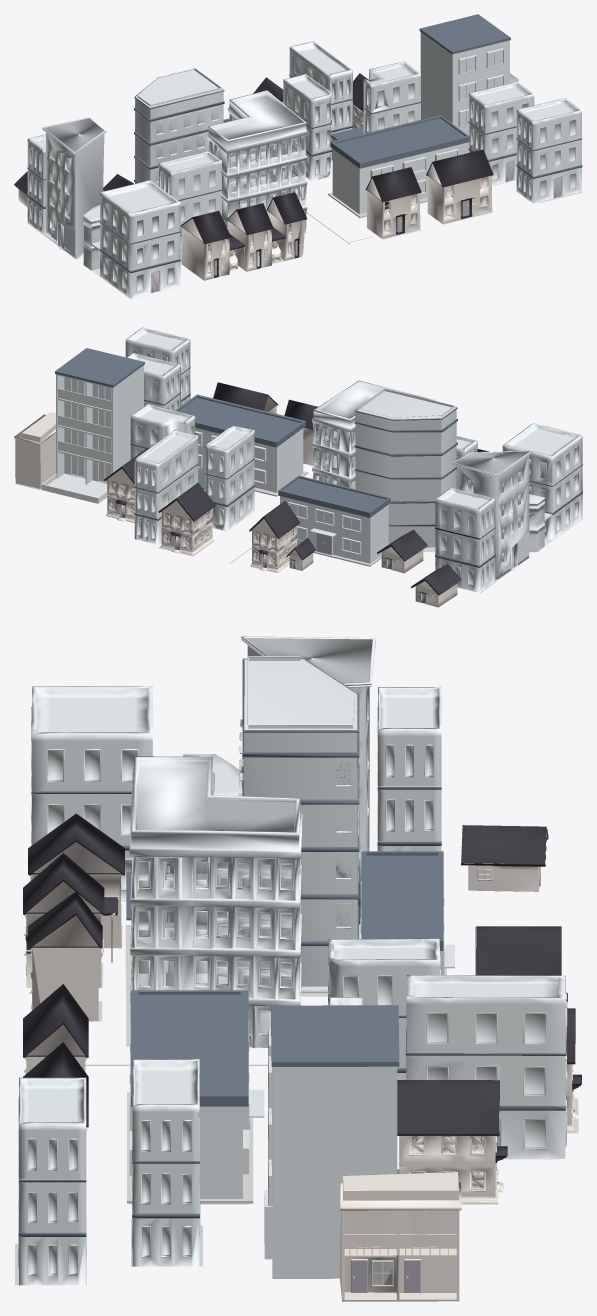
Rendered from 3Dfieldglb.glb.
3 renders of one model, top to bottom at view 1: azimuth 30°, elevation 25°; view 2: azimuth 150°, elevation 25°; view 3: azimuth 270°, elevation 25°, orthographic. The views are drawn at different scales.
Parts seen in each view (by area): view 1: tripo_node_ea9571d6-1a64-4c9e-be9a-d9562c90b405, tripo_node_7c702e56-00d2-4c10-ba90-7abff40f0599.003, Cube.008, Cube.009, tripo_node_dd3f2a51-b126-48fb-8122-037dbf3bfbeb, tripo_node_96fef377-c2ca-482f-a1b9-1c97c62eaa7d.001, tripo_node_7c702e56-00d2-4c10-ba90-7abff40f0599, tripo_node_7c702e56-00d2-4c10-ba90-7abff40f0599.001, tripo_node_ef55f396-2889-439e-9b1a-6b36265ea35c.004, tripo_node_7c702e56-00d2-4c10-ba90-7abff40f0599.002, tripo_node_7c702e56-00d2-4c10-ba90-7abff40f0599.005, tripo_node_7c702e56-00d2-4c10-ba90-7abff40f0599.007 (+8 smaller); view 2: tripo_node_dd3f2a51-b126-48fb-8122-037dbf3bfbeb, Cube.008, Cube.010, Cube.009, tripo_node_96fef377-c2ca-482f-a1b9-1c97c62eaa7d.001, tripo_node_7c702e56-00d2-4c10-ba90-7abff40f0599.003, tripo_node_7c702e56-00d2-4c10-ba90-7abff40f0599.004, tripo_node_7c702e56-00d2-4c10-ba90-7abff40f0599.006, tripo_node_7c702e56-00d2-4c10-ba90-7abff40f0599.007, tripo_node_ea9571d6-1a64-4c9e-be9a-d9562c90b405, tripo_node_40fd3f95-006d-4542-813f-c439f0dc0e5b.001, tripo_node_c7706805 (+13 smaller); view 3: tripo_node_ea9571d6-1a64-4c9e-be9a-d9562c90b405, Cube.008, tripo_node_dd3f2a51-b126-48fb-8122-037dbf3bfbeb, tripo_node_7c702e56-00d2-4c10-ba90-7abff40f0599.006, Cube.009, tripo_node_7c702e56-00d2-4c10-ba90-7abff40f0599.003, tripo_node_c7706805, tripo_node_7c702e56-00d2-4c10-ba90-7abff40f0599, tripo_node_7c702e56-00d2-4c10-ba90-7abff40f0599.001, tripo_node_40fd3f95-006d-4542-813f-c439f0dc0e5b, tripo_node_7c702e56-00d2-4c10-ba90-7abff40f0599.004, Cube.010 (+11 smaller).
Part boxes in pixels (x1,y1,x2,y2): tripo_node_ea9571d6-1a64-4c9e-be9a-d9562c90b405: (207, 90, 307, 230); tripo_node_7c702e56-00d2-4c10-ba90-7abff40f0599.003: (99, 180, 180, 298); Cube.008: (419, 14, 510, 152); Cube.009: (328, 115, 470, 217); tripo_node_dd3f2a51-b126-48fb-8122-037dbf3bfbeb: (134, 68, 224, 185); tripo_node_96fef377-c2ca-482f-a1b9-1c97c62eaa7d.001: (42, 117, 106, 258); tripo_node_7c702e56-00d2-4c10-ba90-7abff40f0599: (516, 98, 582, 203); tripo_node_7c702e56-00d2-4c10-ba90-7abff40f0599.001: (468, 81, 534, 185); tripo_node_ef55f396-2889-439e-9b1a-6b36265ea35c.004: (426, 149, 493, 223); tripo_node_7c702e56-00d2-4c10-ba90-7abff40f0599.002: (363, 61, 421, 133); tripo_node_7c702e56-00d2-4c10-ba90-7abff40f0599.005: (158, 151, 222, 254); tripo_node_7c702e56-00d2-4c10-ba90-7abff40f0599.007: (283, 74, 331, 180); tripo_node_dd3f2a51-b126-48fb-8122-037dbf3bfbeb: (354, 388, 457, 547); Cube.008: (55, 348, 144, 490); Cube.010: (278, 475, 390, 566); Cube.009: (175, 394, 308, 496); tripo_node_96fef377-c2ca-482f-a1b9-1c97c62eaa7d.001: (453, 450, 532, 579); tripo_node_7c702e56-00d2-4c10-ba90-7abff40f0599.003: (502, 423, 582, 540); tripo_node_7c702e56-00d2-4c10-ba90-7abff40f0599.004: (435, 487, 495, 592); tripo_node_7c702e56-00d2-4c10-ba90-7abff40f0599.006: (134, 430, 198, 544); tripo_node_7c702e56-00d2-4c10-ba90-7abff40f0599.007: (204, 426, 254, 530); tripo_node_ea9571d6-1a64-4c9e-be9a-d9562c90b405: (312, 380, 435, 489); tripo_node_40fd3f95-006d-4542-813f-c439f0dc0e5b.001: (158, 483, 215, 555); tripo_node_c7706805: (14, 412, 55, 489); tripo_node_ea9571d6-1a64-4c9e-be9a-d9562c90b405: (129, 756, 302, 1048); Cube.008: (264, 1005, 399, 1278); tripo_node_dd3f2a51-b126-48fb-8122-037dbf3bfbeb: (166, 656, 359, 992); tripo_node_7c702e56-00d2-4c10-ba90-7abff40f0599.006: (405, 975, 567, 1158); Cube.009: (127, 990, 264, 1203); tripo_node_7c702e56-00d2-4c10-ba90-7abff40f0599.003: (30, 686, 152, 900); tripo_node_c7706805: (339, 1172, 461, 1301); tripo_node_7c702e56-00d2-4c10-ba90-7abff40f0599: (18, 1077, 86, 1285); tripo_node_7c702e56-00d2-4c10-ba90-7abff40f0599.001: (132, 1059, 200, 1266); tripo_node_40fd3f95-006d-4542-813f-c439f0dc0e5b: (397, 1080, 507, 1204); tripo_node_7c702e56-00d2-4c10-ba90-7abff40f0599.004: (377, 687, 441, 851); Cube.010: (360, 851, 454, 975).
Size of the model in its own units: 3.61 by 1.01 by 1.91.
